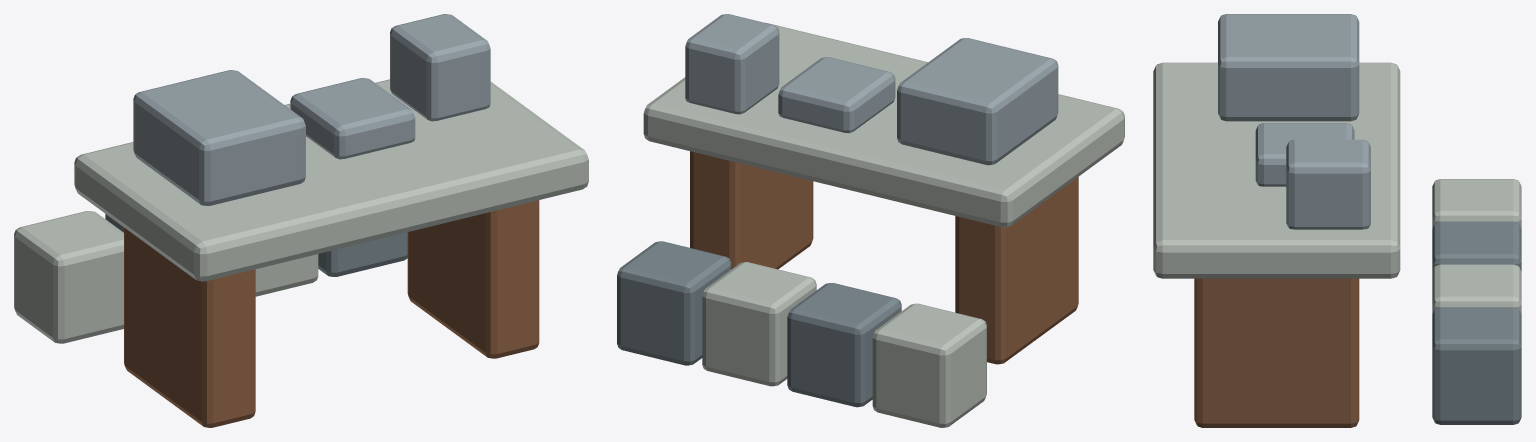
Rendered from workshop_mason_station.glb.
The picture shows the model from 3 angles, left to right: view 1: azimuth 30°, elevation 25°; view 2: azimuth 150°, elevation 25°; view 3: azimuth 270°, elevation 25°; orthographic projection. The views are drawn at different scales.
Parts seen in each view (by area): view 1: workshop_mason_station; view 2: workshop_mason_station; view 3: workshop_mason_station.
Boxes of the visible parts, x1,y1,x2,y2 form: workshop_mason_station: (14, 14, 588, 427); workshop_mason_station: (617, 14, 1124, 427); workshop_mason_station: (1153, 14, 1521, 427).
Size of the model in its own units: 1.86 by 1.25 by 1.56.
